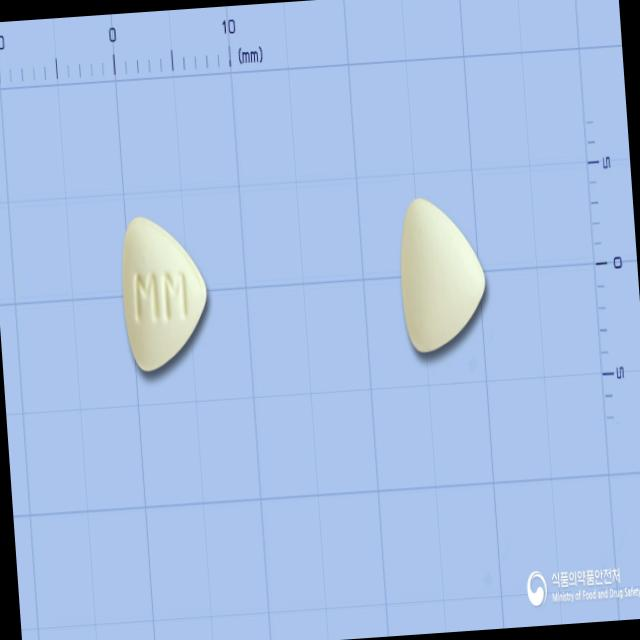Leflunomide Myungmoon -20mg: (116, 210, 212, 376)
